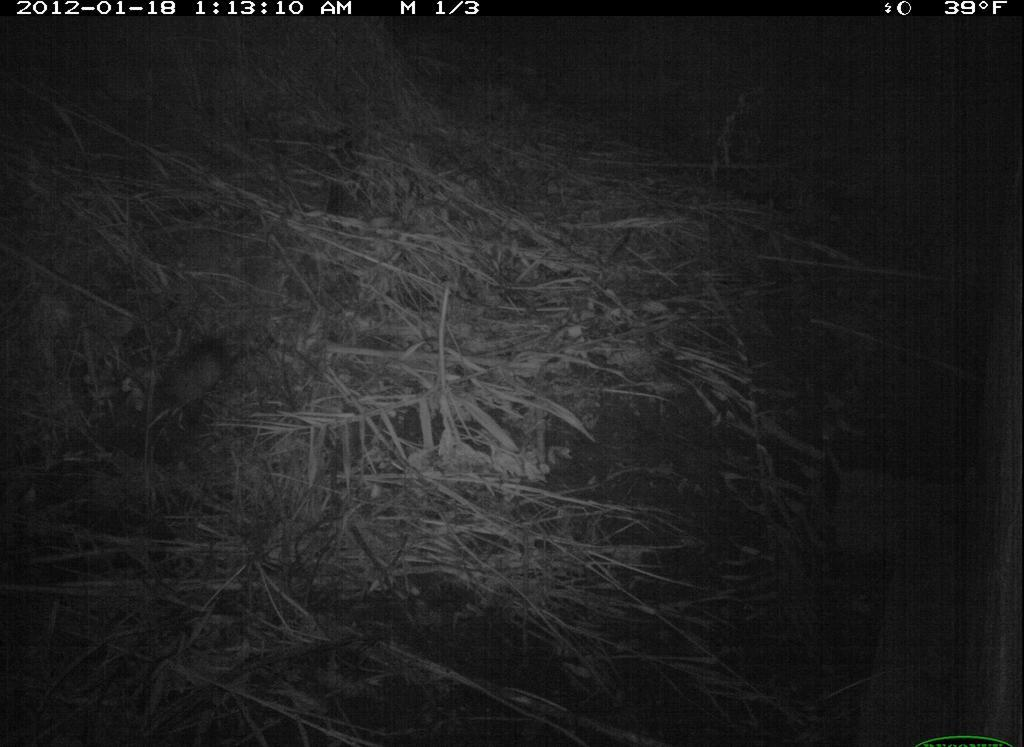opossum: (143, 321, 250, 449)
